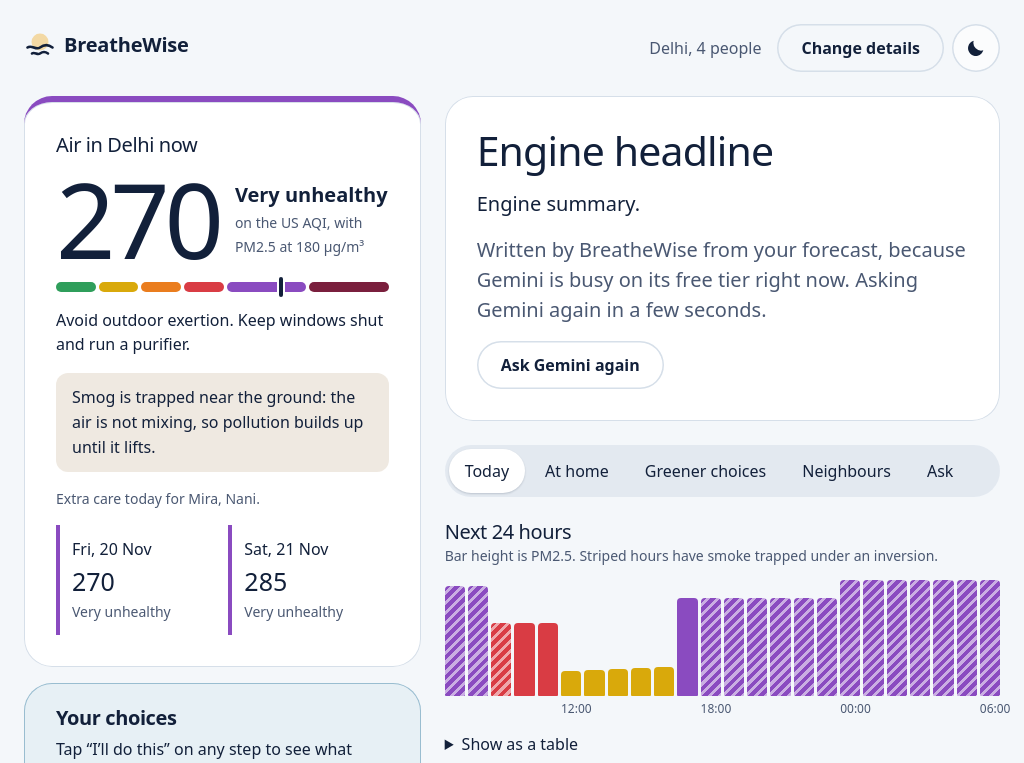
Test: Dashboard with a saved family › asks Gemini again when the first briefing came from the engine
The width and height of the screenshot is (1024, 763).
Check: the heading "Air in Delhi now" is shown, box top-left (56, 131), bottom-right (197, 158)
Click the button "Ask Gemini again". click: (570, 365)
box: top-left (477, 341), bottom-right (664, 389)
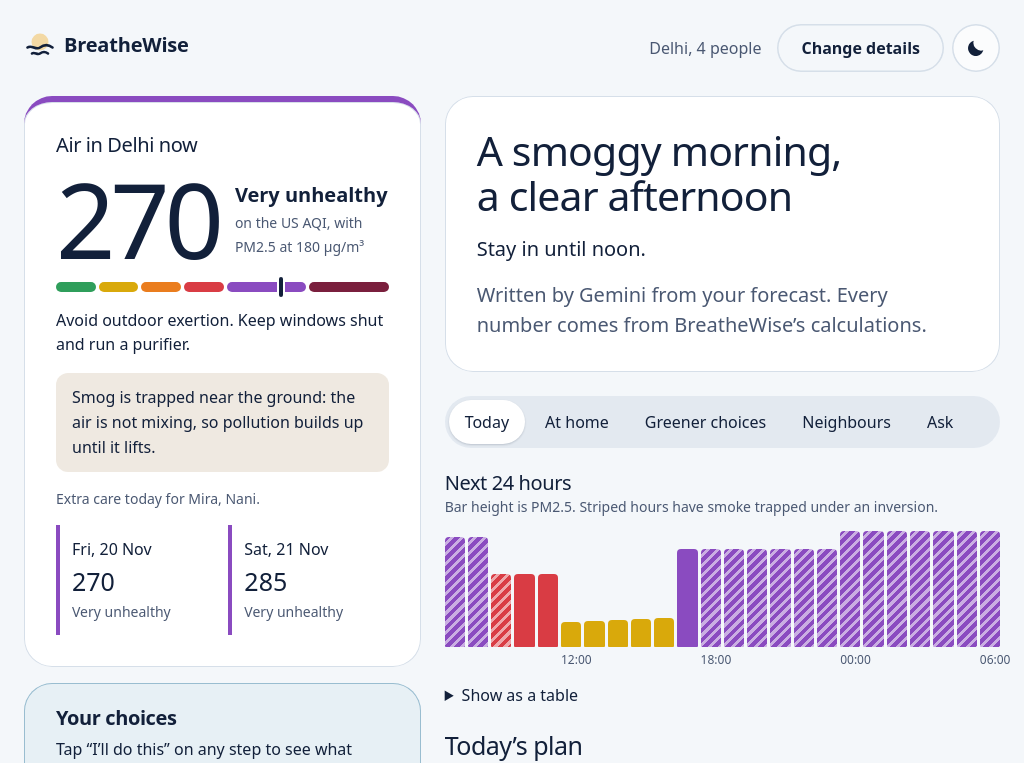
Check: the heading "A smoggy morning, a clear afternoon" is shown, box top-left (477, 122), bottom-right (842, 223)
Check: the button "Ask Gemini again" is gone
